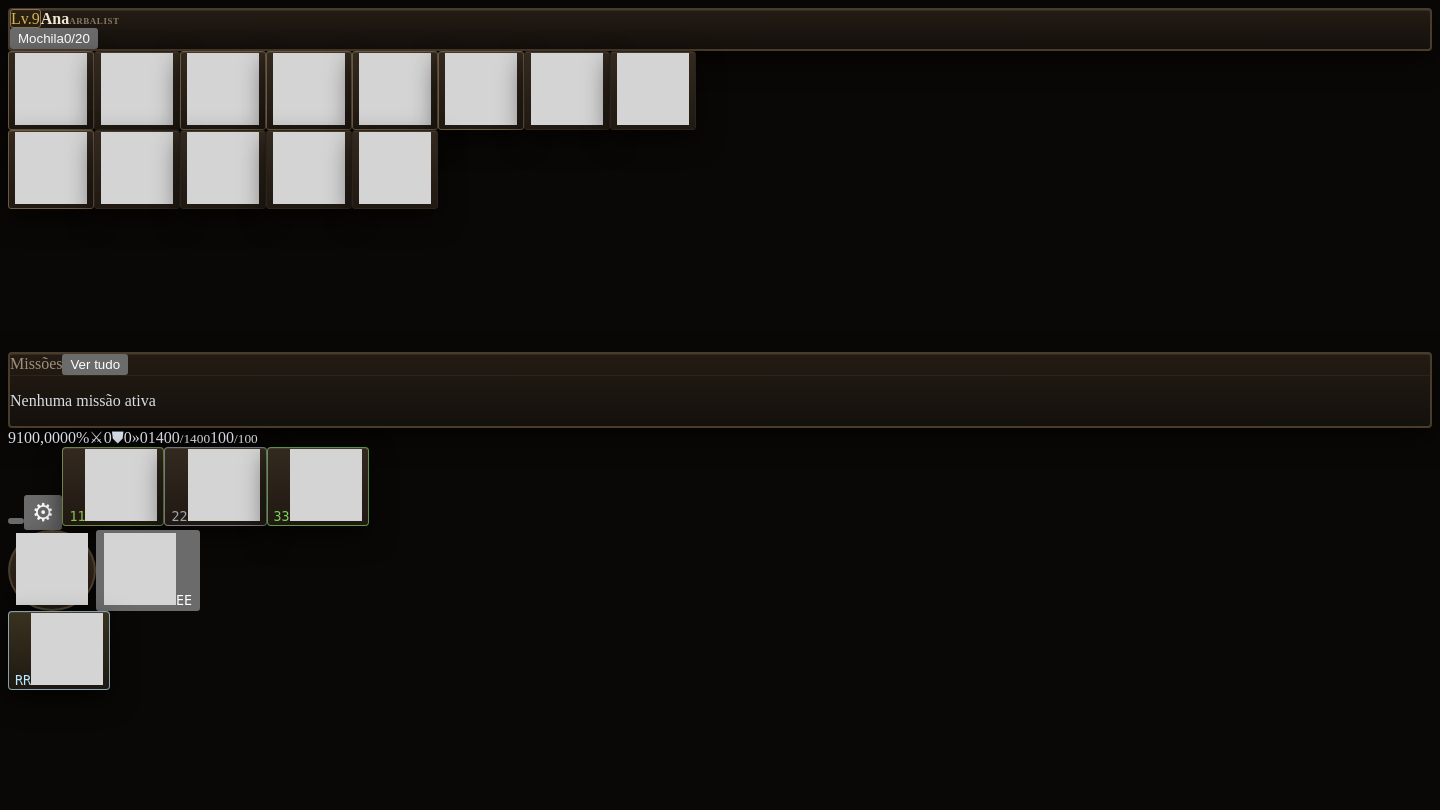
Test: o pause (ESC) › continuar fecha sem sair do personagem
The image size is (1440, 810).
Press Escape
(page scrolled)
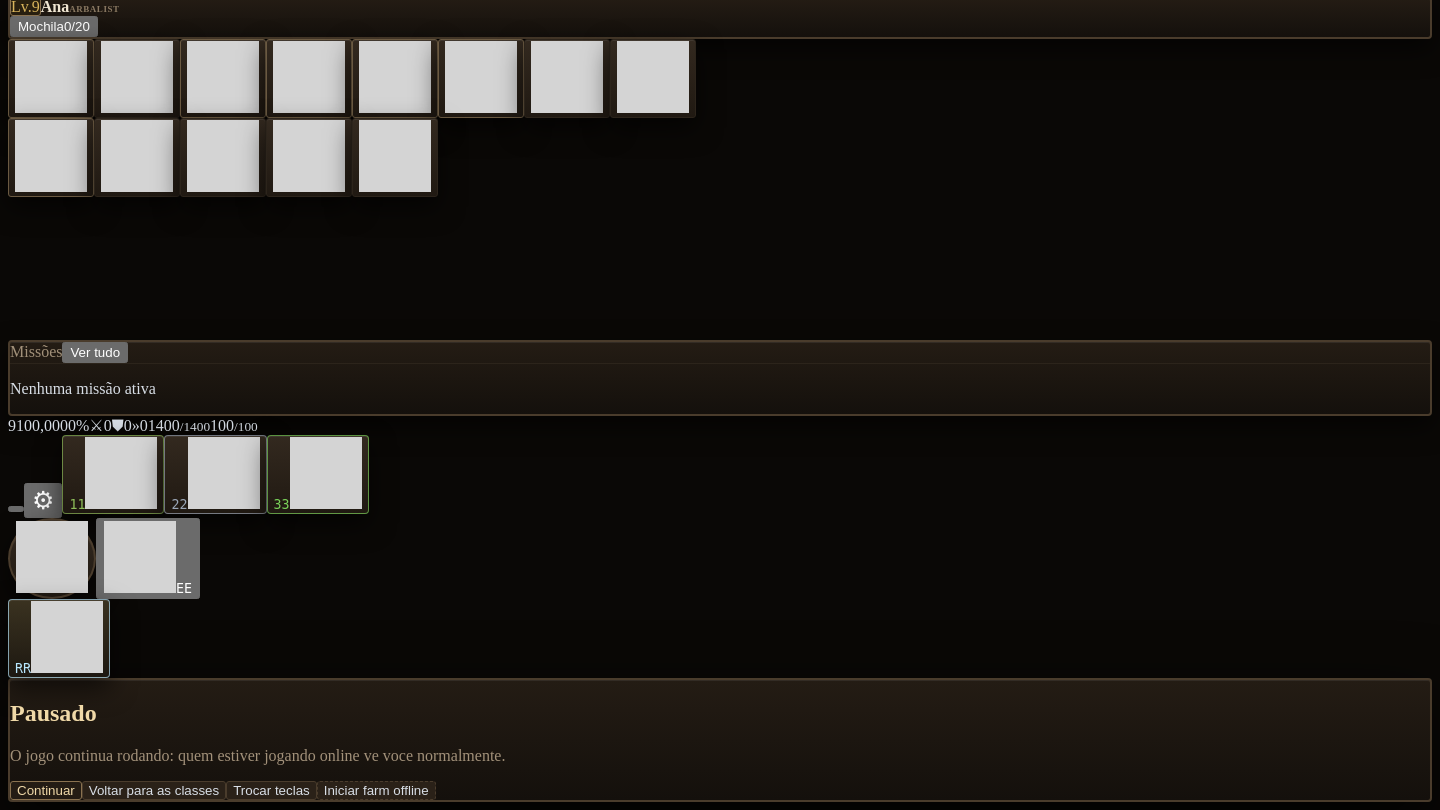
Click the button "Continuar" at (46,790), box [10,781,82,800]
(page scrolled)
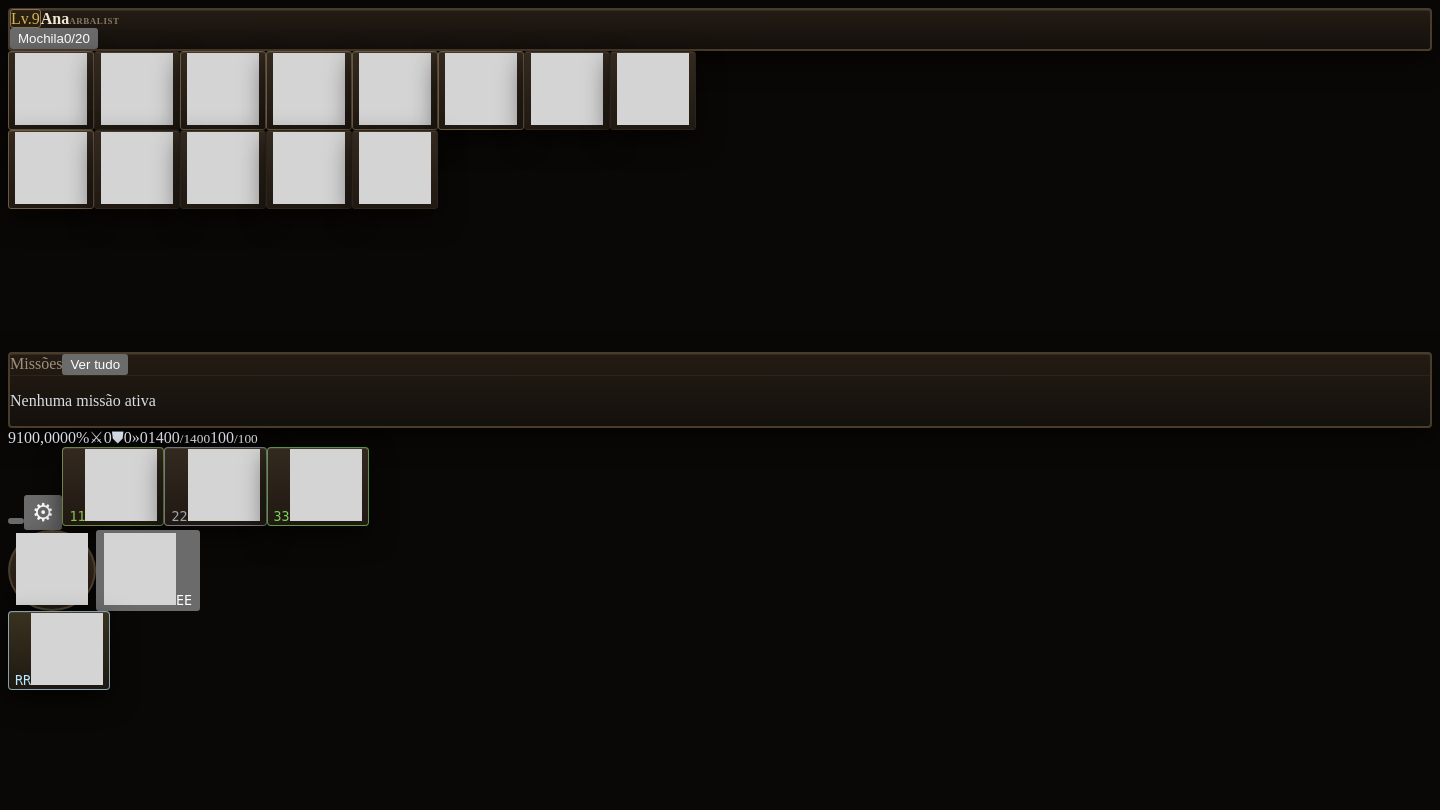
Result: the dialog is gone
